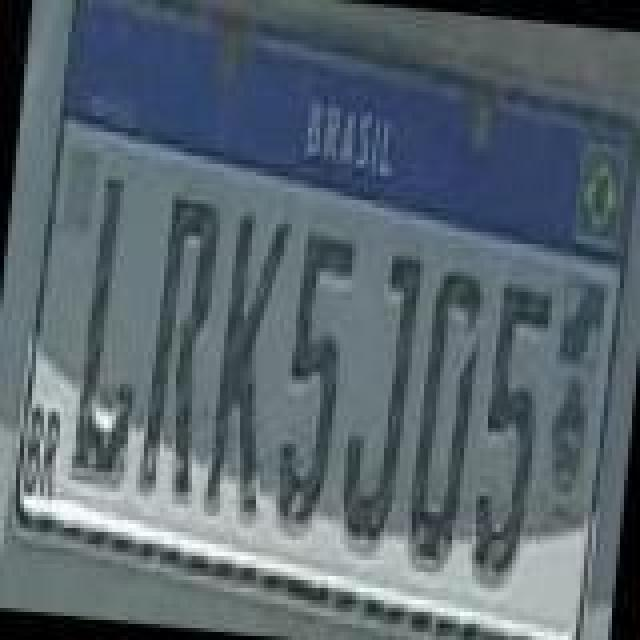5: (466, 274, 558, 606), (266, 226, 358, 542)
D: (398, 268, 490, 580)
J: (334, 246, 426, 554)
K: (200, 204, 296, 532)
L: (68, 166, 156, 490)
R: (134, 194, 226, 510)
